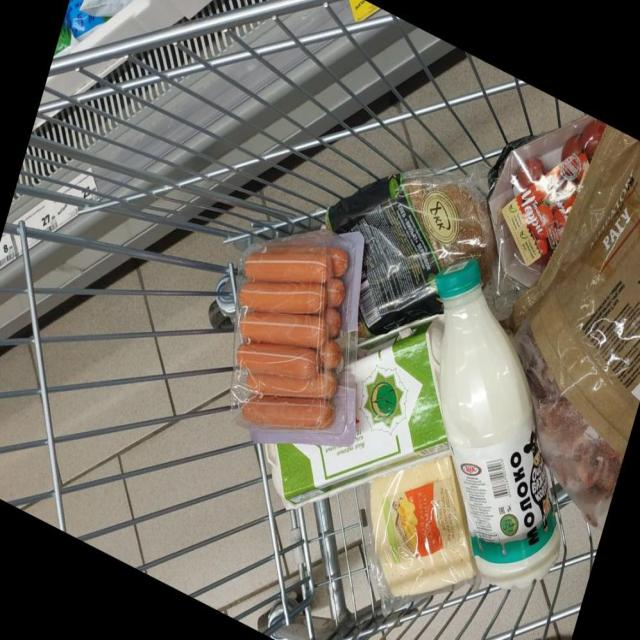Bread: (326, 170, 496, 335), (487, 137, 533, 192)
Cheese: (364, 456, 477, 612)
Eggs: (265, 316, 447, 508)
Meat: (514, 124, 640, 528)
Milk: (435, 259, 561, 589)
Sausages: (231, 229, 364, 446)
Tomatoes: (580, 119, 606, 160), (516, 157, 545, 189), (560, 135, 582, 161)
